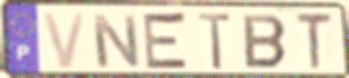B: (241, 13, 289, 71)
E: (142, 10, 191, 74)
N: (89, 13, 143, 70)
T: (294, 11, 335, 73), (196, 11, 234, 72)
V: (40, 12, 89, 71)
